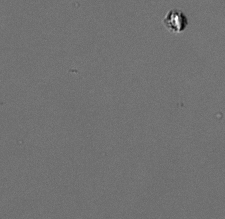Living Cell: (166, 10, 188, 32)
